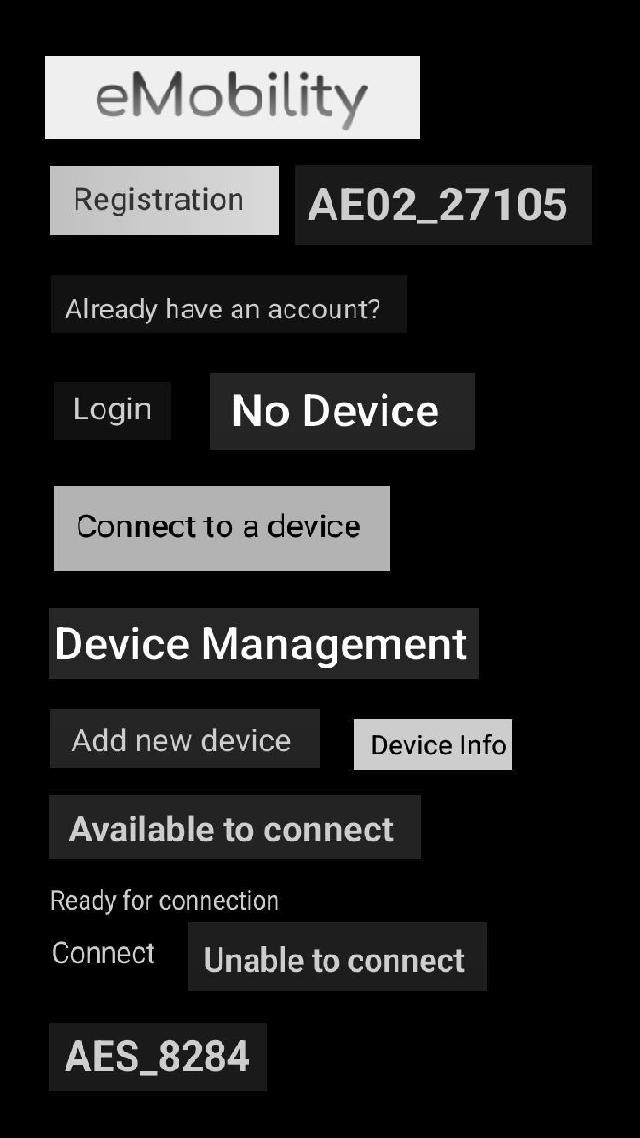Text: (82, 65, 384, 131), (55, 623, 471, 669), (56, 293, 388, 332), (304, 179, 568, 228), (66, 814, 403, 850), (193, 939, 473, 981), (72, 508, 365, 545), (228, 386, 442, 432), (57, 1036, 256, 1082), (63, 724, 297, 759), (70, 178, 254, 222), (46, 885, 286, 917), (366, 729, 510, 764), (46, 934, 161, 970), (68, 389, 154, 429)
